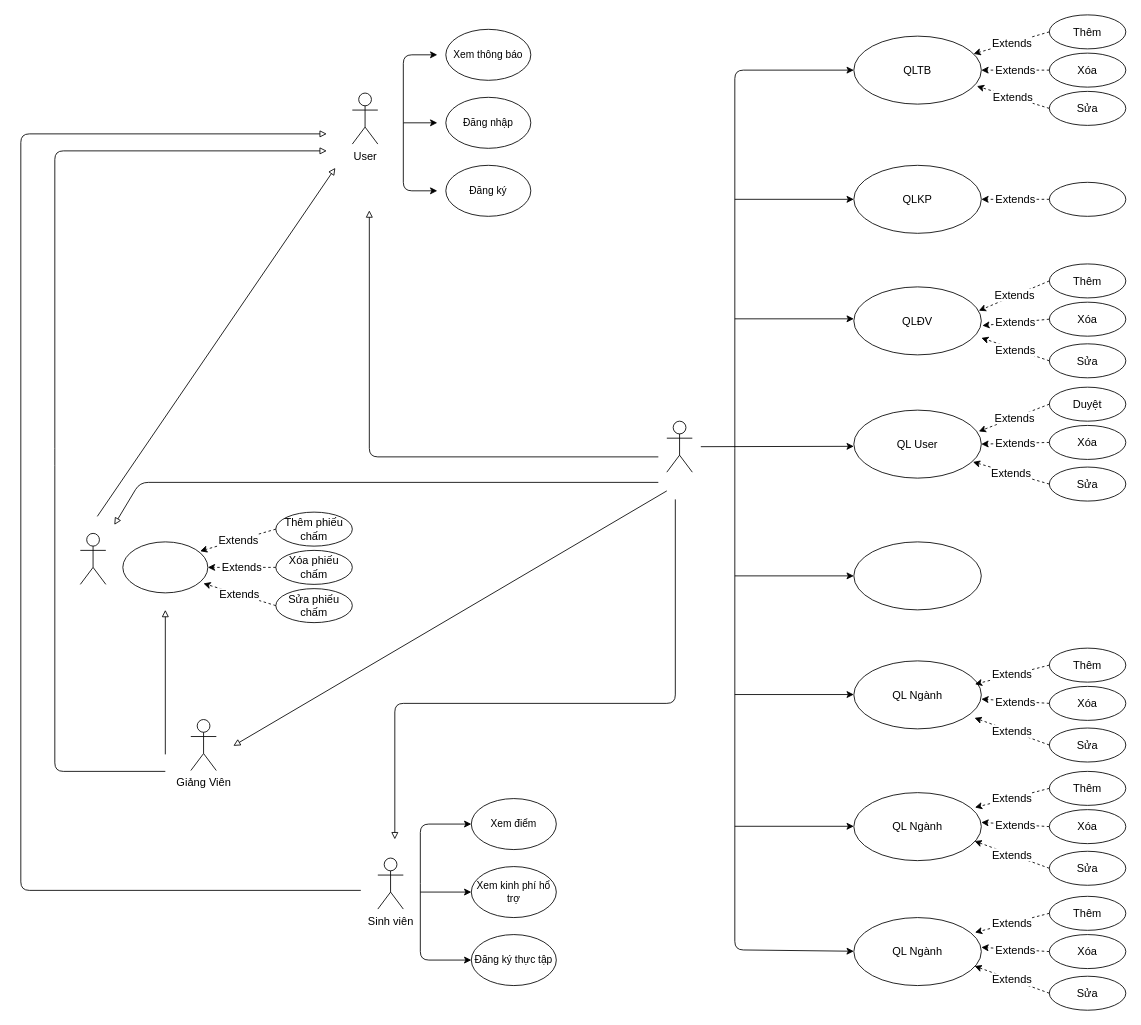
Some shapes in this 1141 by 1025 pixel diagram are drawn without their labels. Here are the shapes that lost their labels. From the top down, the centre of each, then its label:
At [1087,198]: "Cập nhật KP".
At [679,446]: "Admin".
At [92,558]: "CBĐV".
At [165,567]: "Chấm báo cáo".
At [917,575]: "Phân công thực tập".
